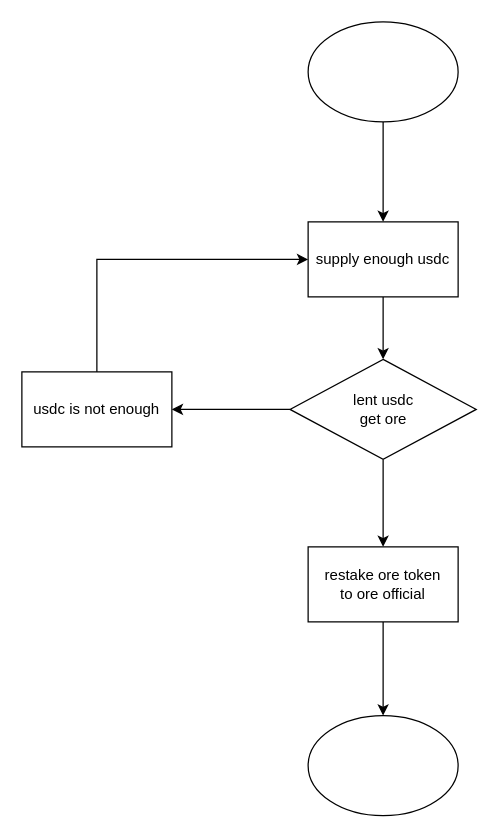
This 499x838 diagram has some shape labels left out. Here are the shapes that lost their labels. From the top down, the box of each, then its label:
(307, 21, 458, 122): start
(307, 714, 458, 816): end
